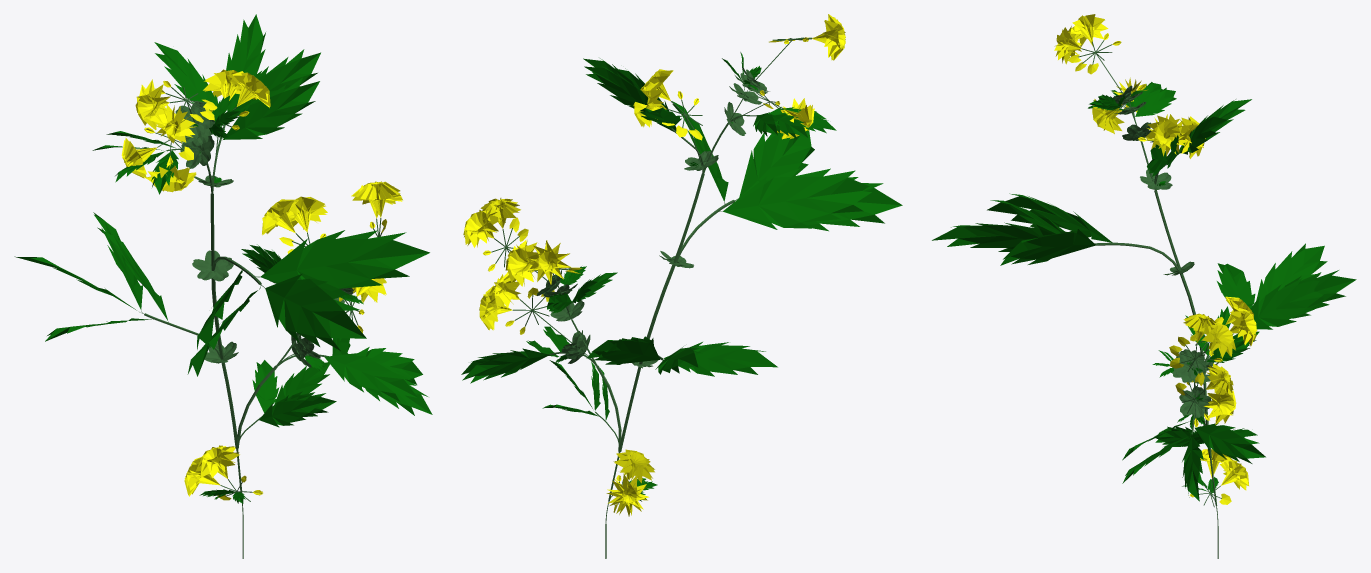
Rendered from flower 04.obj.
3 views of the same model, side by side, from view 1: azimuth 30°, elevation 25°; view 2: azimuth 150°, elevation 25°; view 3: azimuth 270°, elevation 25° (orthographic). The views are drawn at different scales.
Parts seen in each view (by area): view 1: 1Newplan; view 2: 1Newplan; view 3: 1Newplan.
Boxes of the visible parts, <box> form: 1Newplan: <box>14,14,432,558</box>; 1Newplan: <box>461,14,902,558</box>; 1Newplan: <box>932,14,1356,558</box>.
Size of the model in its own units: 593 by 898 by 725.
